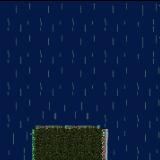Slow: (0, 0, 160, 122), (109, 123, 160, 160), (0, 123, 29, 160)
